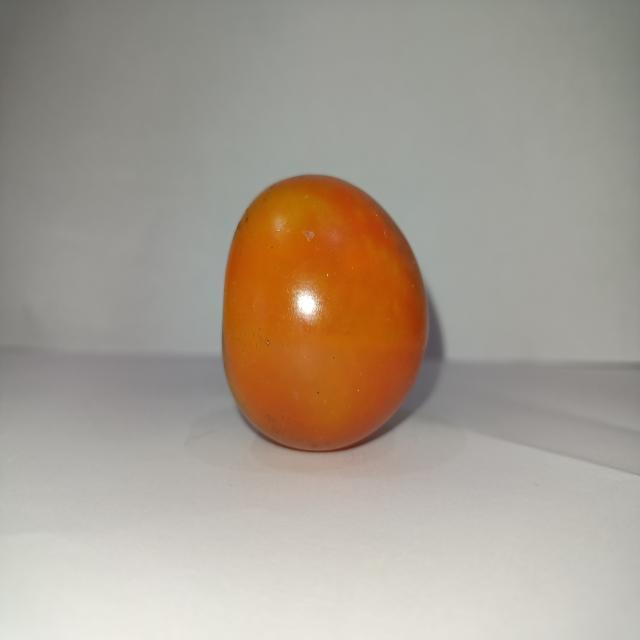Red: (220, 172, 430, 452)
